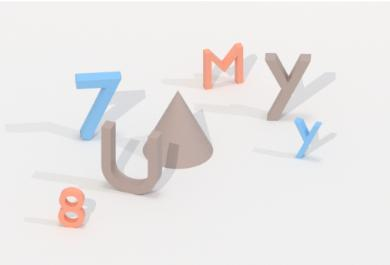0-TamGiac: (138, 86, 217, 172)
7: (70, 68, 124, 144)
8: (55, 183, 88, 230)
M: (198, 40, 247, 95)
U: (98, 115, 163, 197)
y: (260, 47, 311, 120), (291, 112, 325, 164)
